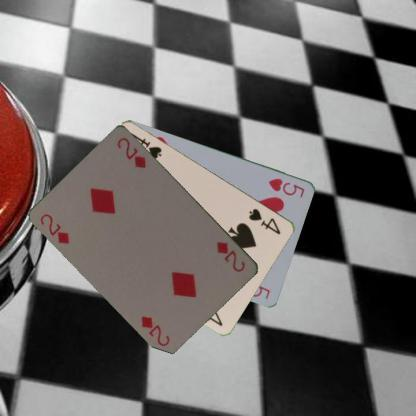2d: (38, 210, 71, 246), (214, 239, 247, 273)
4s: (246, 206, 283, 235)
5h: (266, 175, 306, 199)
